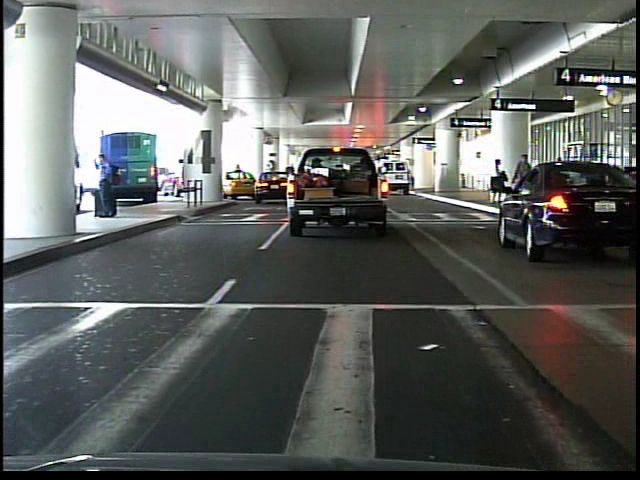person: (93, 150, 124, 227), (487, 155, 513, 210), (512, 151, 534, 208)
